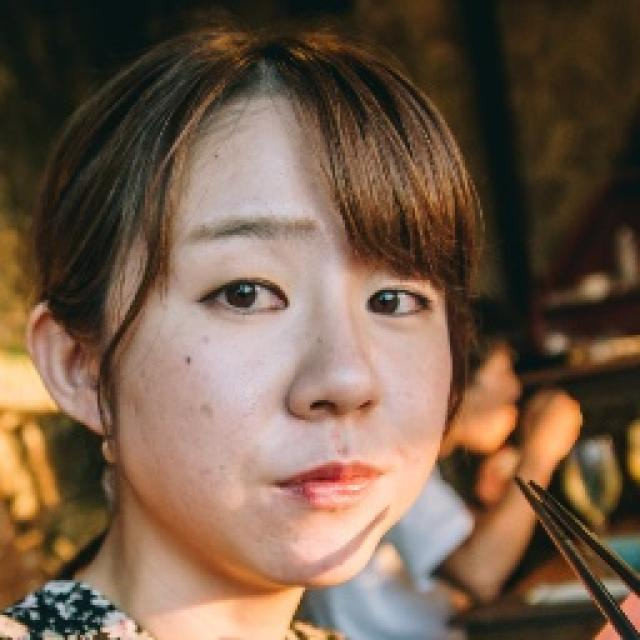earlobe: (75, 387, 115, 438)
eye: (194, 272, 294, 317)
wholeear: (26, 299, 116, 439)
